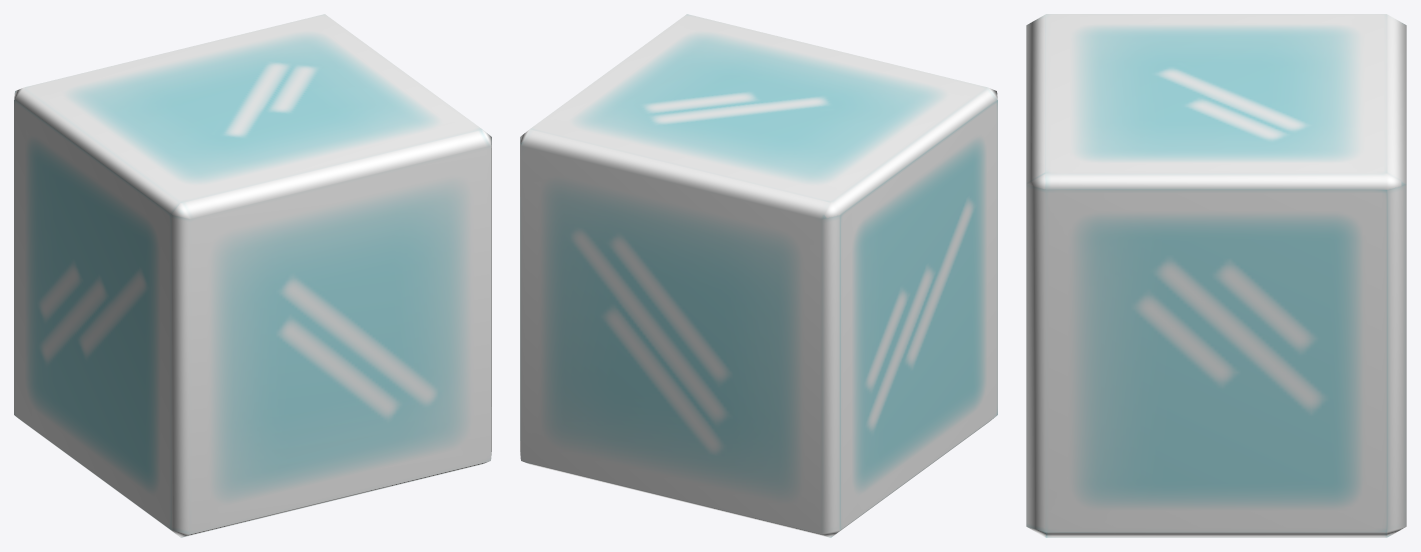
Rendered from Food_IceBox.fbx.
3 views of the same model, side by side, from view 1: azimuth 30°, elevation 25°; view 2: azimuth 150°, elevation 25°; view 3: azimuth 270°, elevation 25° (orthographic). The views are drawn at different scales.
Parts seen in each view (by area): view 1: iceBlock; view 2: iceBlock; view 3: iceBlock.
Part boxes in pixels (bbox=[...]): iceBlock: bbox=[14, 14, 491, 537]; iceBlock: bbox=[520, 14, 997, 537]; iceBlock: bbox=[1026, 14, 1406, 537].
Bounding box in the file's own units: 1 × 1 × 0.9476.
